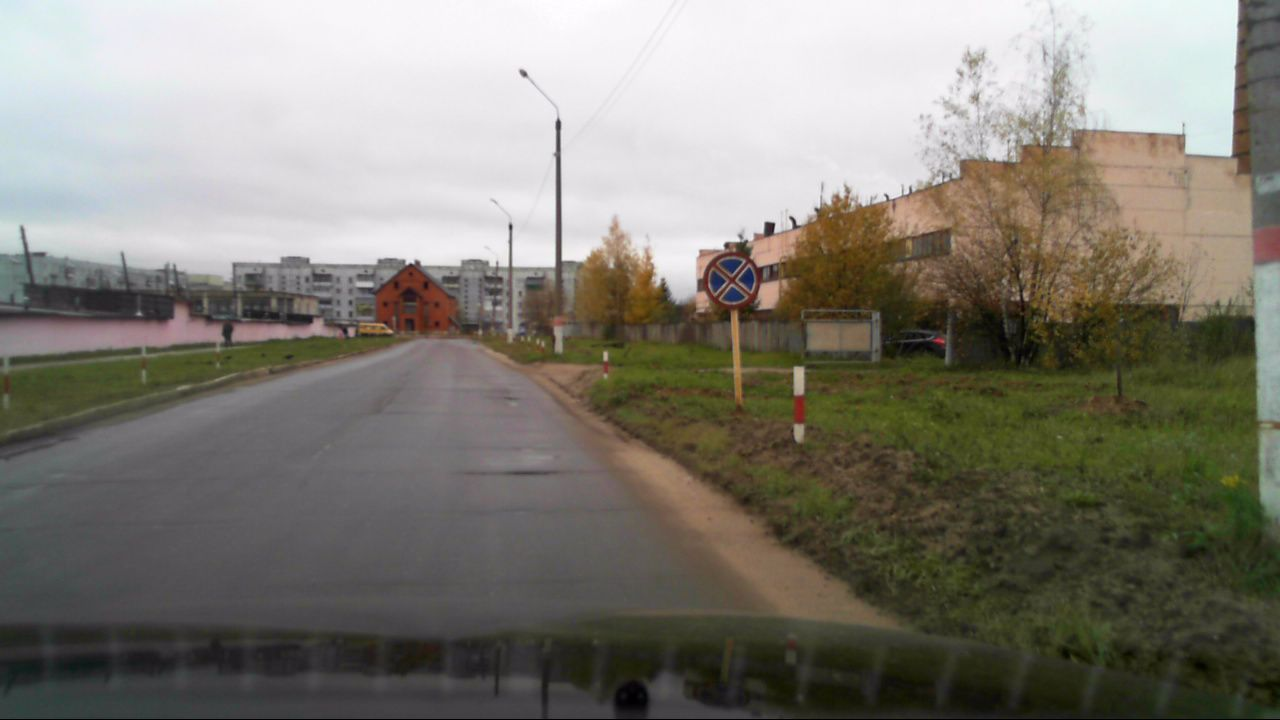No Parking: (702, 252, 761, 310)
